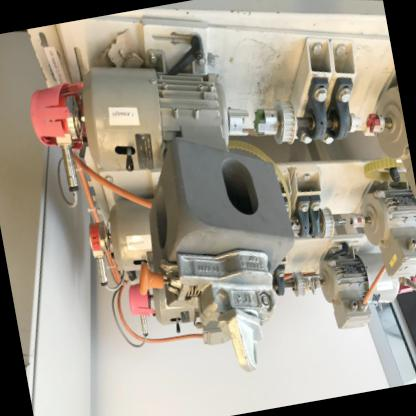CornerCasting: (127, 115, 304, 303)
Twistlock: (130, 224, 302, 394)
